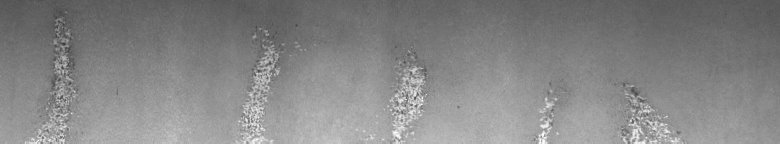hc: (535, 82, 681, 136)
